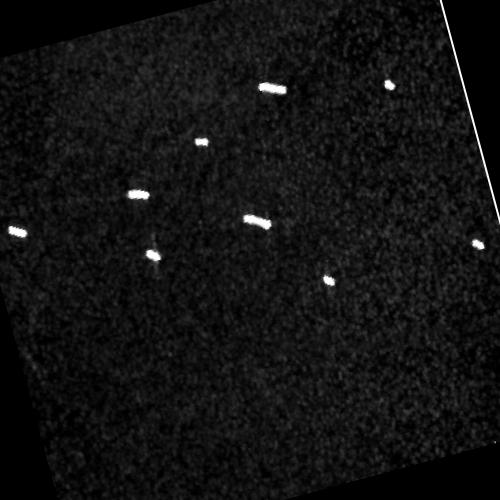ship: (242, 212, 273, 231), (258, 80, 288, 97), (7, 224, 29, 239), (126, 188, 151, 201), (145, 249, 162, 263), (322, 273, 336, 287), (194, 136, 210, 148), (383, 78, 397, 91), (472, 238, 486, 250)
